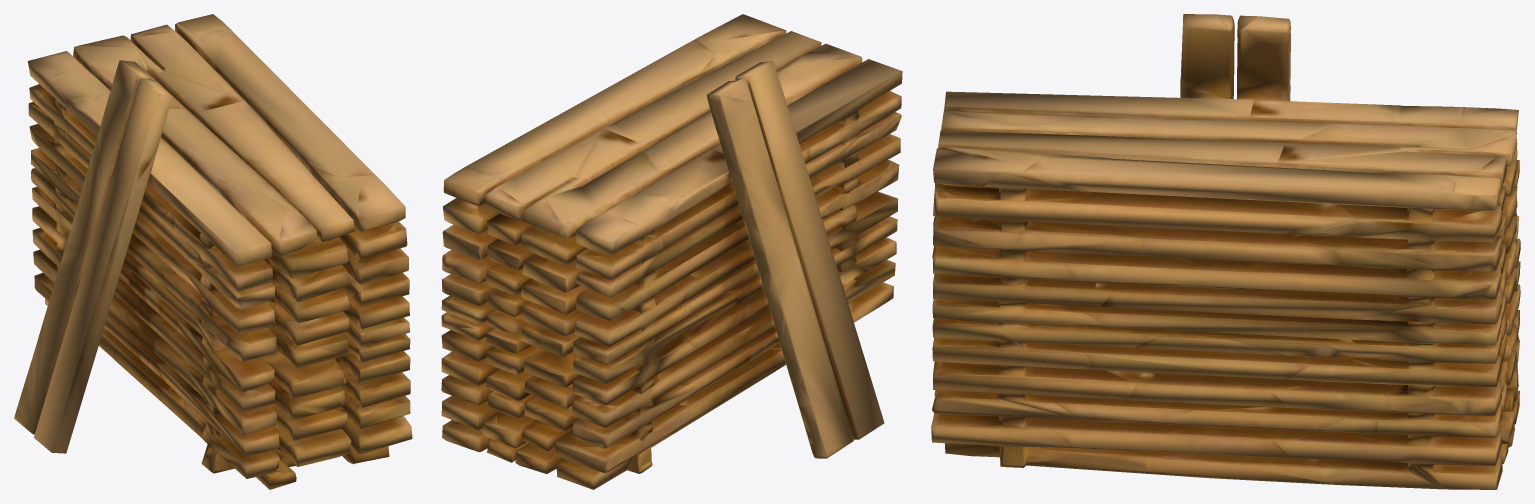
The model's file is lumber_shed_stack.glb.
3 views of the same model, side by side, from view 1: azimuth 30°, elevation 25°; view 2: azimuth 150°, elevation 25°; view 3: azimuth 270°, elevation 25° (orthographic). The views are drawn at different scales.
Visible parts, largest first — view 1: node_0; view 2: node_0; view 3: node_0.
Part boxes in pixels (<box>): node_0: <box>14,14,412,489</box>; node_0: <box>441,14,902,489</box>; node_0: <box>931,14,1520,489</box>.
Size of the model in its own units: 0.6222 by 0.6694 by 0.9141.
1 material, 1 textured.
